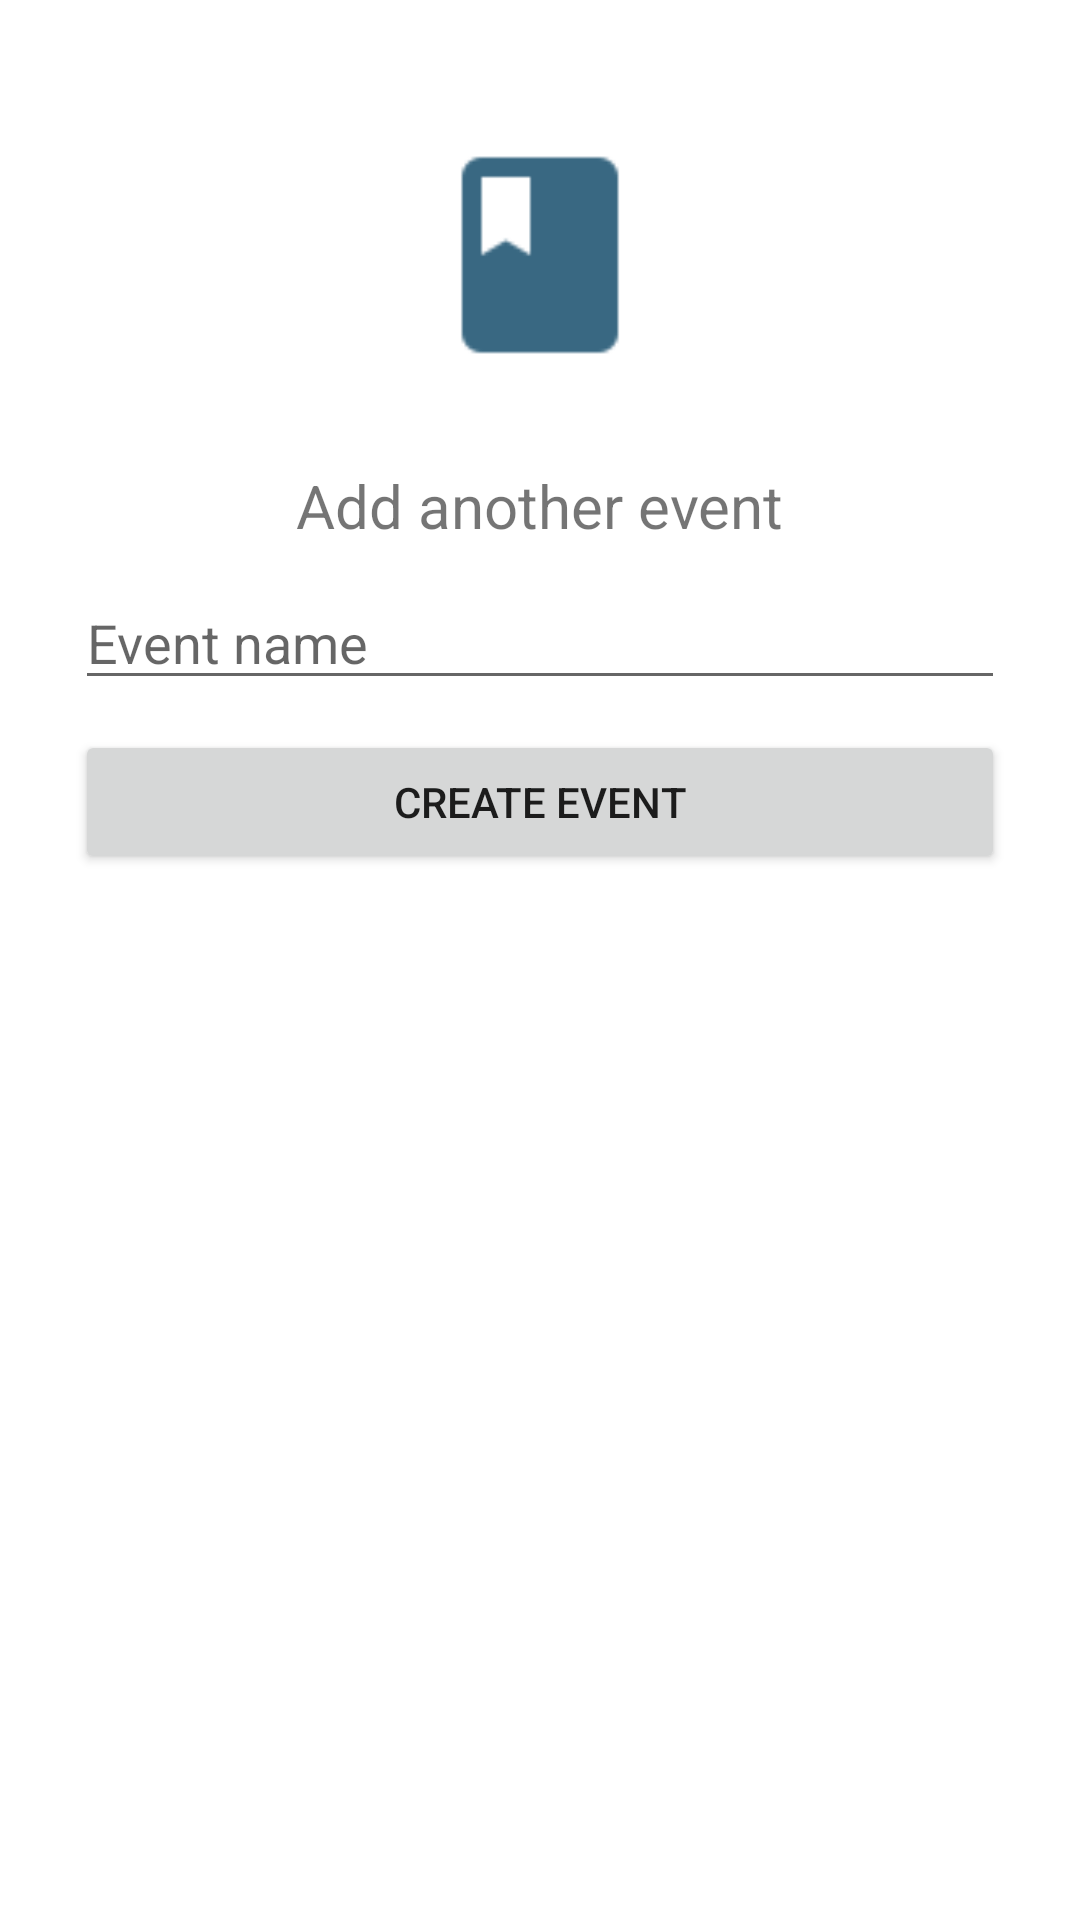

Screen size 1080px×1920px. Icon name, then its box in pixels as (x1, y1, x2, y2):
book: (461, 156, 619, 354)
